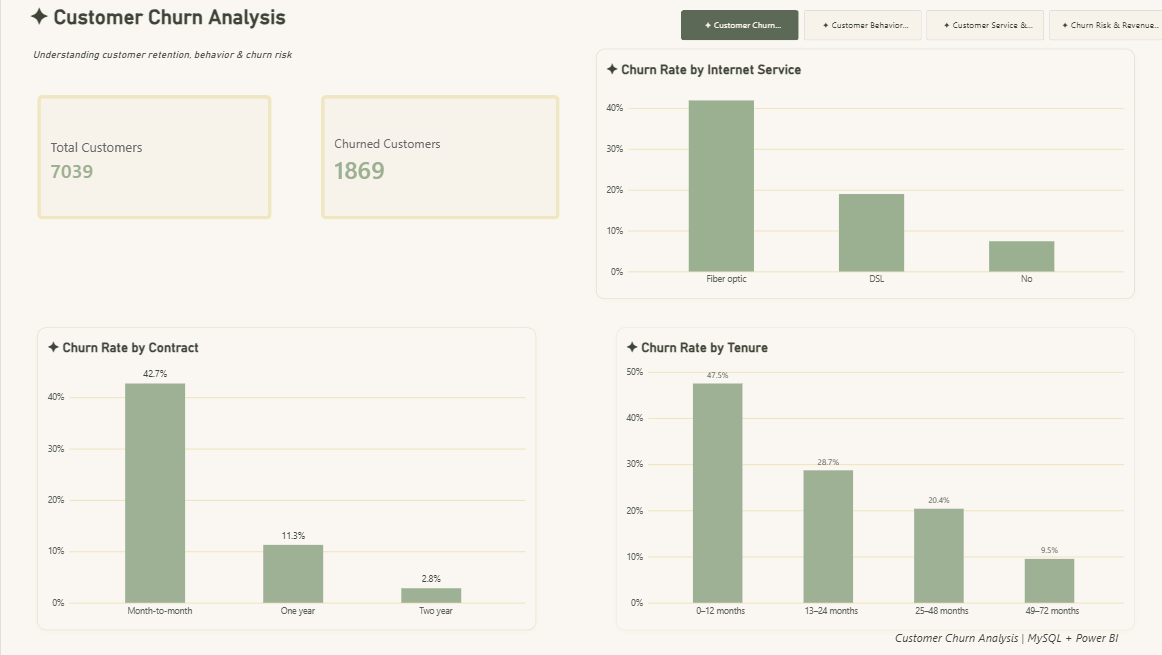

The dashboard page shown, as its layout file describes it:
{"tool":"powerbi","page":{"name":"✦ Customer Churn Overview","canvas":[1920,1080],"ordinal":0},"visuals":[{"type":"textbox","box":[10,0,280,280],"z":0},{"type":"textbox","box":[39.1,0,487.8,80.3],"z":1000},{"type":"textbox","box":[39.1,80.3,444.6,59.7],"z":2000},{"type":"cardVisual","fields":{"Data":["customer_churn customers.Total Customers"]},"box":[59.7,156.4,387,205.8],"z":3000},{"type":"cardVisual","fields":{"Data":["customer_churn customers.Churned Customers"]},"box":[526.9,156.4,393.1,205.8],"z":4000},{"type":"clusteredColumnChart","title":"✦ Churn Rate by Contract","fields":{"Category":["customer_churn customers.Contract"],"Y":["customer_churn customers.Churn Rate KPI"]},"box":[59.7,539.3,821.3,498.1],"z":4001},{"type":"clusteredColumnChart","title":"✦ Churn Rate by Tenure","fields":{"Category":["customer_churn customers.Tenure Group"],"Y":["customer_churn customers.Churn Rate KPI"]},"box":[1012.7,539.3,854.2,498.1],"z":4002},{"type":"clusteredColumnChart","title":"✦ Churn Rate by Internet Service","fields":{"Category":["customer_churn customers.InternetService"],"Y":["customer_churn customers.Churn Rate KPI"]},"box":[979.8,80.3,887.1,411.7],"z":4003},{"type":"pageNavigator","box":[1119.7,16.5,800,50],"z":4004},{"type":"textbox","box":[1391.4,1037.4,529,43.2],"z":4005}]}

Visuals, with their boxes in screenshot pixels (x1, y1, x2, y2), scaled from the page's 1920x1080 canvas onto the 1162x655 screenshot:
textbox: region(6, 0, 176, 170)
textbox: region(24, 0, 319, 49)
textbox: region(24, 49, 293, 85)
cardVisual - customer_churn customers.Total Customers: region(36, 95, 270, 220)
cardVisual - customer_churn customers.Churned Customers: region(319, 95, 557, 220)
"✦ Churn Rate by Contract" clusteredColumnChart: region(36, 327, 533, 629)
"✦ Churn Rate by Tenure" clusteredColumnChart: region(613, 327, 1130, 629)
"✦ Churn Rate by Internet Service" clusteredColumnChart: region(593, 49, 1130, 298)
pageNavigator: region(678, 10, 1161, 40)
textbox: region(842, 629, 1161, 654)
